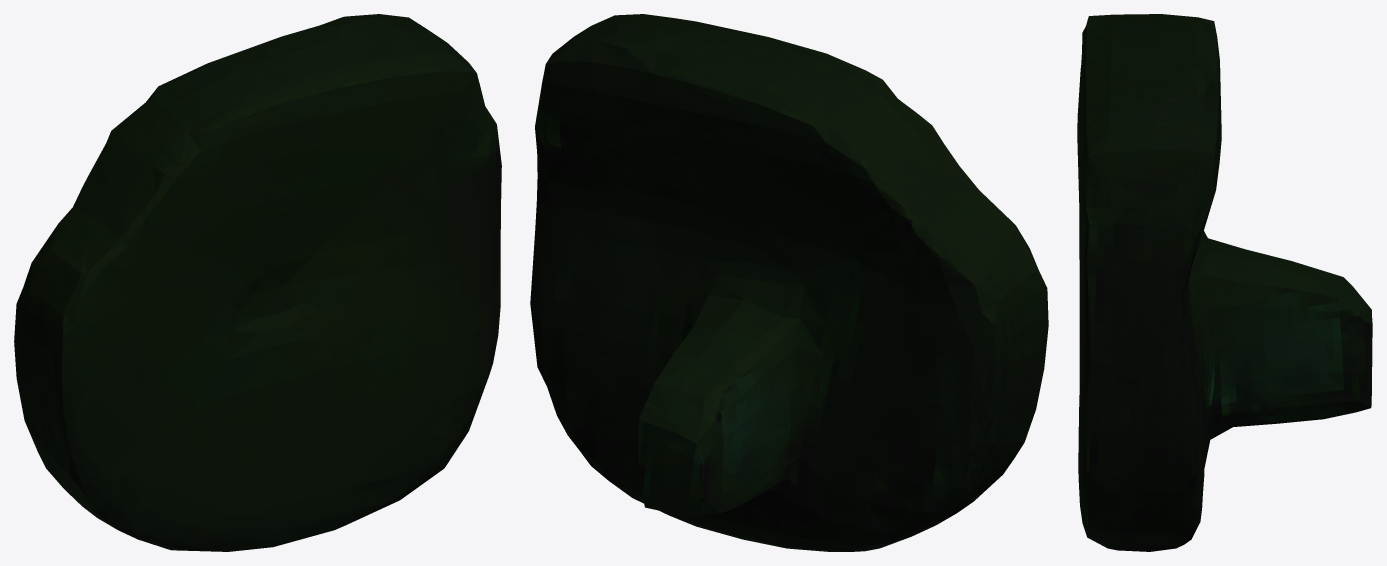
The picture shows the model from 3 angles, left to right: view 1: azimuth 30°, elevation 25°; view 2: azimuth 150°, elevation 25°; view 3: azimuth 270°, elevation 25°; orthographic projection. The views are drawn at different scales.
Parts seen in each view (by area): view 1: world; view 2: world; view 3: world.
Boxes of the visible parts, bbox=[...] form: world: bbox=[14, 14, 501, 551]; world: bbox=[530, 14, 1048, 551]; world: bbox=[1077, 14, 1372, 551].
Size of the model in its own units: 0.0659 by 0.0662 by 0.0365.
1 material, 1 textured.
